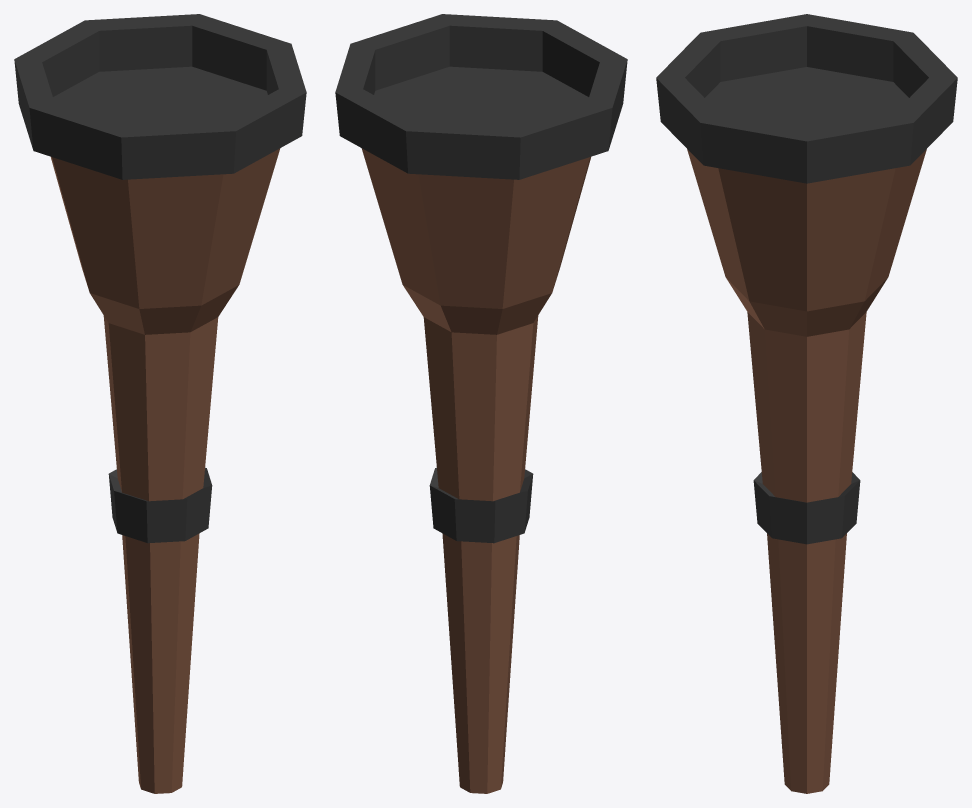
The model's file is Tortch.fbx.
3 views of the same model, side by side, from view 1: azimuth 30°, elevation 25°; view 2: azimuth 150°, elevation 25°; view 3: azimuth 270°, elevation 25° (orthographic).
Visible parts, largest first — view 1: Cylinder; view 2: Cylinder; view 3: Cylinder.
Boxes of the visible parts, left/top/right/bottom form: Cylinder: left=14, top=14, right=306, bottom=793; Cylinder: left=335, top=14, right=627, bottom=793; Cylinder: left=656, top=14, right=957, bottom=793.
Size of the model in its own units: 260 by 671 by 260.
